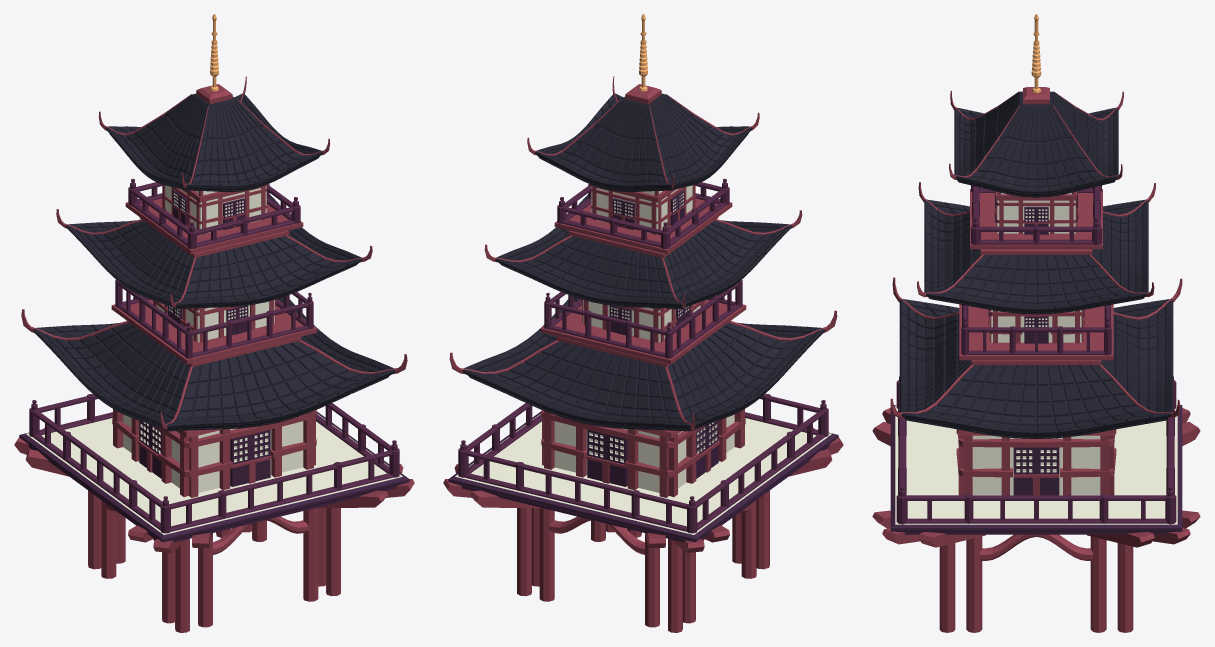
File: pagoda.fbx
3 renders of one model, left to right at view 1: azimuth 30°, elevation 25°; view 2: azimuth 150°, elevation 25°; view 3: azimuth 270°, elevation 25°, orthographic. The views are drawn at different scales.
Visible parts, largest first — view 1: Cube.003; view 2: Cube.003; view 3: Cube.003.
Part boxes in pixels (box(x1,y1,x2,y2)): Cube.003: box(14, 14, 414, 632); Cube.003: box(443, 14, 843, 632); Cube.003: box(872, 14, 1200, 632).
Size of the model in its own units: 4216 by 8264 by 4255.
